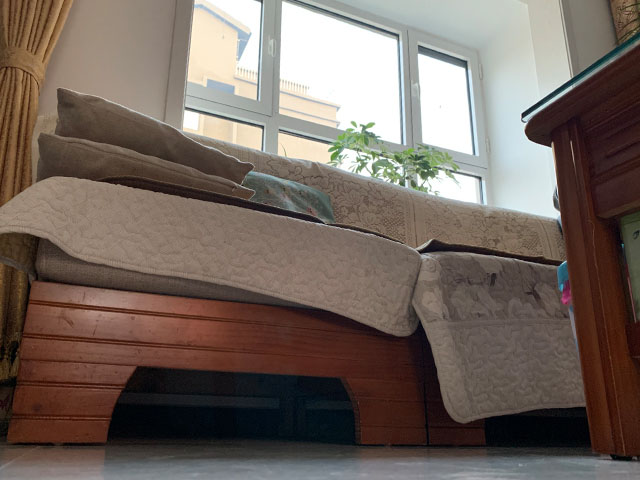curtain: (1, 1, 74, 382)
sofa: (1, 88, 593, 449)
table: (518, 29, 640, 462)
